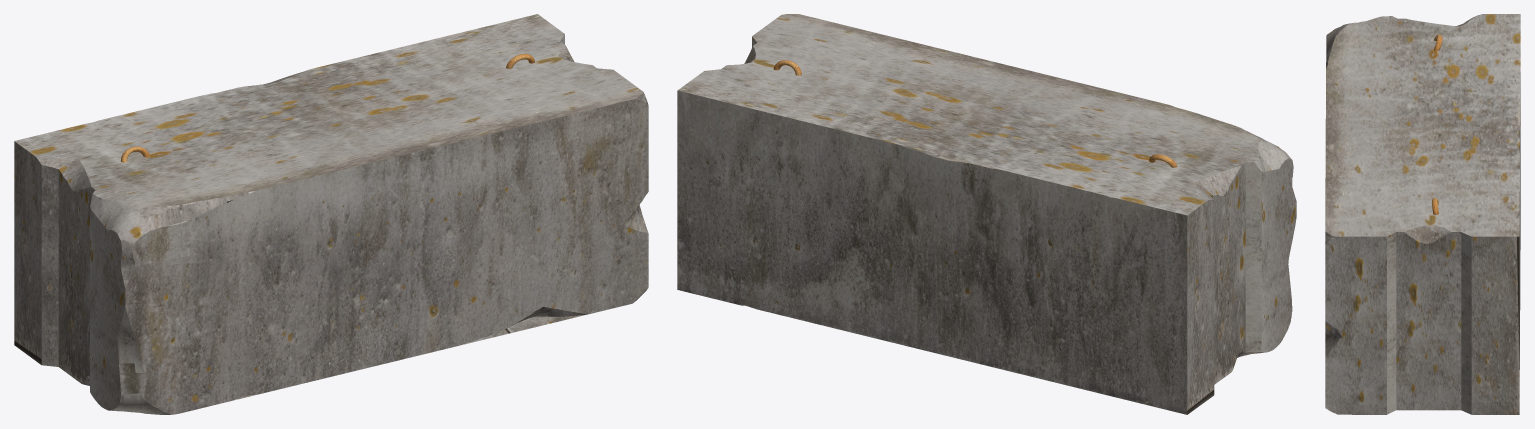
File: Bet_blok_002-2.fbx
3 renders of one model, left to right at view 1: azimuth 30°, elevation 25°; view 2: azimuth 150°, elevation 25°; view 3: azimuth 270°, elevation 25°, orthographic. The views are drawn at different scales.
Parts seen in each view (by area): view 1: Cube_dmg.002; view 2: Cube_dmg.002; view 3: Cube_dmg.002.
Boxes of the visible parts, x1,y1,x2,y2 form: Cube_dmg.002: (14, 14, 648, 414); Cube_dmg.002: (677, 14, 1296, 414); Cube_dmg.002: (1325, 14, 1520, 414).
Size of the model in its own units: 174 by 68.41 by 64.67.
